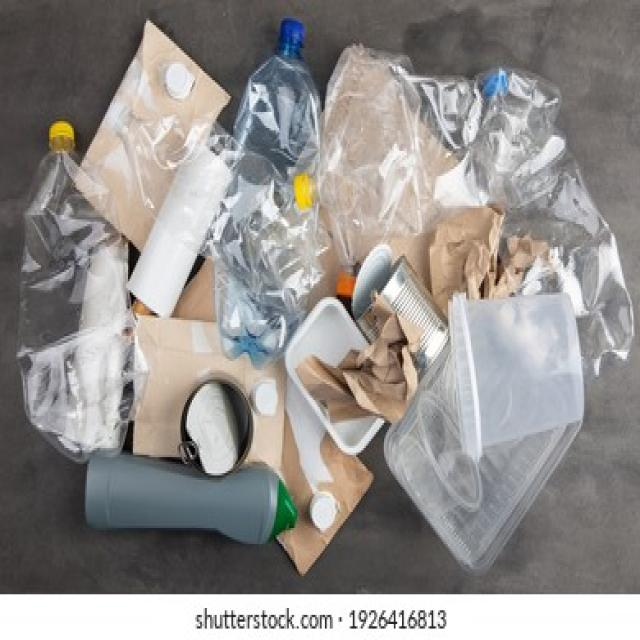metal: (184, 384, 249, 448)
paper: (318, 343, 416, 423), (435, 212, 517, 292)
plastic: (433, 325, 555, 528), (24, 197, 121, 393), (75, 460, 284, 537), (234, 96, 308, 290)
